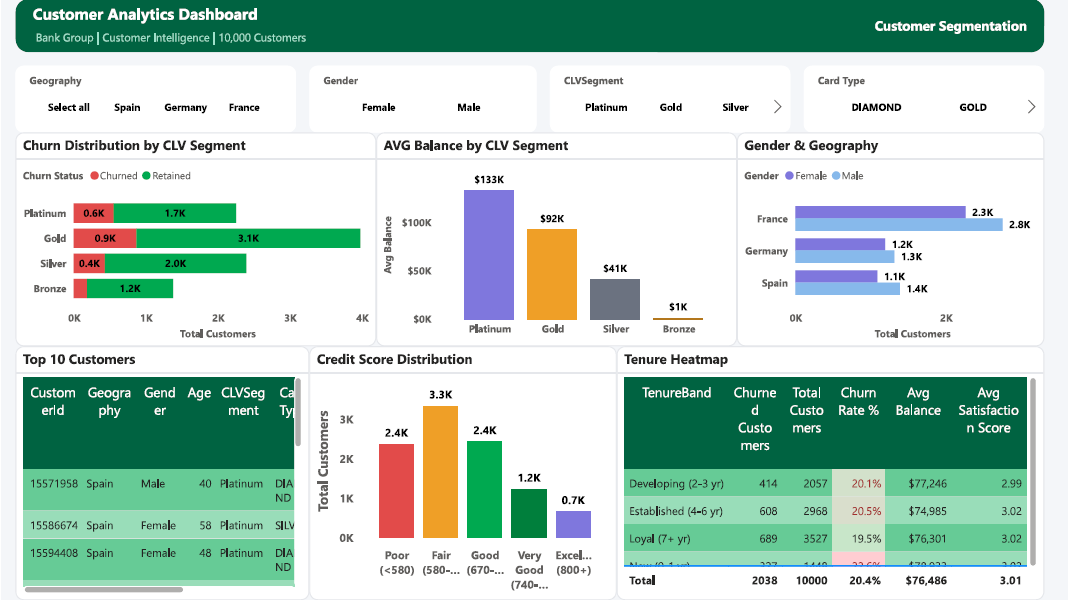

This screenshot's page, from the dashboard's own definition file:
{"tool":"powerbi","page":{"name":"Customer Segmentation","canvas":[1280,720],"ordinal":1},"visuals":[{"type":"shape","box":[16,0,1232,64],"z":0},{"type":"textbox","box":[32,0,336,48],"z":1000},{"type":"textbox","box":[1040,16,208,32],"z":2000},{"type":"slicer","fields":{"Values":["CustomerBase.Geography"]},"box":[16,80,336,80],"z":3000},{"type":"textbox","box":[32,32,416,32],"z":4000},{"type":"slicer","fields":{"Values":["CustomerBase.Gender"]},"box":[368,80,272,80],"z":4000},{"type":"slicer","fields":{"Values":["CustomerBase.Card Type"]},"box":[960,80,288,80],"z":5000},{"type":"slicer","fields":{"Values":["CustomerBase.CLVSegment"]},"box":[656,80,288,80],"z":6000},{"type":"barChart","title":"Churn Distribution by CLV Segment","fields":{"Category":["CustomerBase.CLVSegment"],"Y":["_Measures.Total Customers"],"Series":["CustomerBase.Churn Status"]},"box":[16,160,432,256],"z":7000},{"type":"clusteredColumnChart","title":"AVG Balance by CLV Segment","fields":{"Category":["CustomerBase.CLVSegment"],"Y":["_Measures.Avg Balance"]},"box":[448,160,432,256],"z":8000},{"type":"clusteredColumnChart","title":"Credit Score Distribution","fields":{"Y":["_Measures.Total Customers"],"Category":["CustomerBase.CreditScoreBand"]},"box":[368,416,368,304],"z":9000},{"type":"tableEx","title":"Tenure Heatmap","fields":{"Values":["CustomerBase.TenureBand","_Measures.Churned Customers","_Measures.Total Customers","_Measures.Churn Rate %","_Measures.Avg Balance","_Measures.Avg Satisfaction Score"]},"box":[736,416,512,304],"z":9001},{"type":"clusteredBarChart","title":"Gender & Geography ","fields":{"Category":["CustomerBase.Geography"],"Y":["_Measures.Total Customers"],"Series":["CustomerBase.Gender"]},"box":[880,160,368,256],"z":9002},{"type":"tableEx","title":"Top 10 Customers","fields":{"Values":["CustomerBase.CustomerId","CustomerBase.Geography","CustomerBase.Gender","CustomerBase.Age","CustomerBase.CLVSegment","CustomerBase.Card Type","CustomerBase.Balance","CustomerBase.Churn Status","CustomerBase.Satisfaction Score"]},"box":[16,416,352,304],"z":9003}]}

Visuals, with their boxes in screenshot pixels (x1, y1, x2, y2), scaled from the page's 1280x720 canvas onto the 1068x600 screenshot:
shape: region(13, 0, 1041, 53)
textbox: region(27, 0, 307, 40)
textbox: region(868, 13, 1041, 40)
slicer - CustomerBase.Geography: region(13, 67, 294, 133)
textbox: region(27, 27, 374, 53)
slicer - CustomerBase.Gender: region(307, 67, 534, 133)
slicer - CustomerBase.Card Type: region(801, 67, 1041, 133)
slicer - CustomerBase.CLVSegment: region(547, 67, 788, 133)
"Churn Distribution by CLV Segment" barChart: region(13, 133, 374, 347)
"AVG Balance by CLV Segment" clusteredColumnChart: region(374, 133, 734, 347)
"Credit Score Distribution" clusteredColumnChart: region(307, 347, 614, 599)
"Tenure Heatmap" tableEx: region(614, 347, 1041, 599)
"Gender & Geography " clusteredBarChart: region(734, 133, 1041, 347)
"Top 10 Customers" tableEx: region(13, 347, 307, 599)
